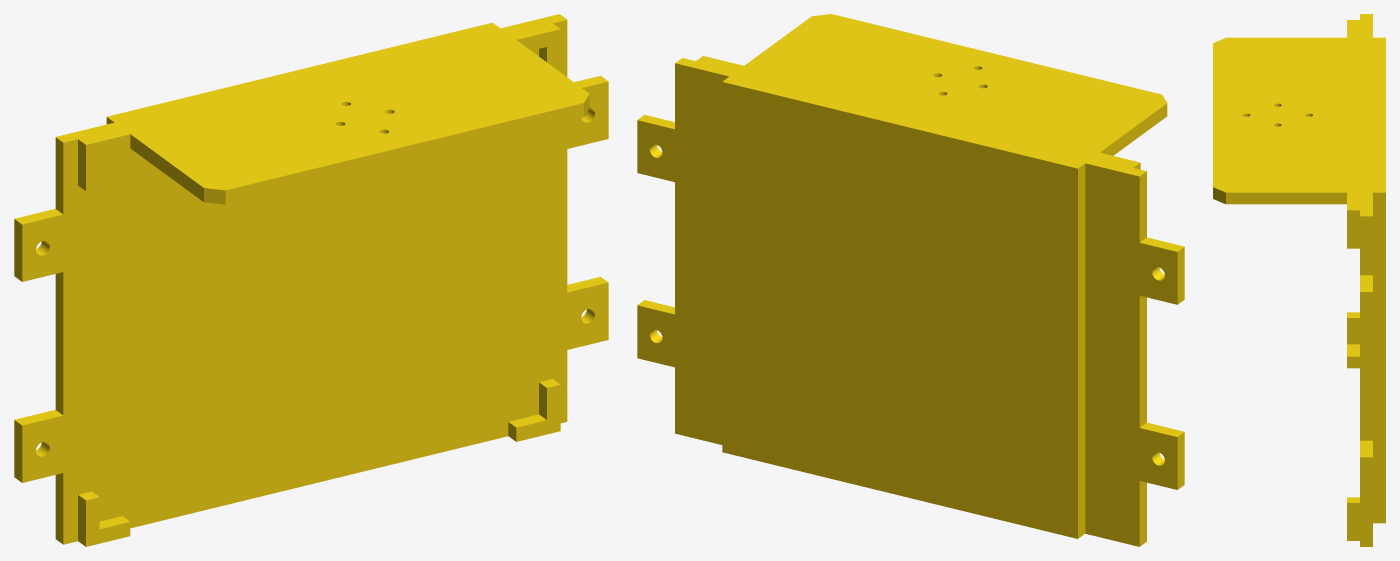
3 renders of one model, left to right at view 1: azimuth 30°, elevation 25°; view 2: azimuth 150°, elevation 25°; view 3: azimuth 270°, elevation 25°, orthographic. The views are drawn at different scales.
Visible parts, largest first — view 1: mesh11558, mesh11521, mesh11507, mesh11526, mesh11552, mesh11514, mesh11559, mesh11506, mesh11518; view 2: mesh11533, mesh11521, mesh11543, mesh11546, mesh11531, mesh11526, mesh11506; view 3: mesh11521, mesh11532, mesh11505, mesh11538, mesh11534, mesh11540, mesh11536, mesh11542, mesh11520, mesh11555, mesh11560, mesh11539.
Boxes of the visible parts, left/top/right/bottom form: mesh11558: left=22, top=20, right=608, bottom=544; mesh11521: left=56, top=14, right=589, bottom=190; mesh11507: left=225, top=103, right=583, bottom=204; mesh11526: left=55, top=272, right=63, bottom=414; mesh11552: left=516, top=385, right=560, bottom=441; mesh11514: left=86, top=134, right=130, bottom=191; mesh11559: left=86, top=497, right=130, bottom=546; mesh11506: left=130, top=134, right=203, bottom=201; mesh11518: left=517, top=29, right=560, bottom=71; mesh11533: left=722, top=82, right=1077, bottom=538; mesh11521: left=675, top=14, right=1166, bottom=176; mesh11543: left=1085, top=163, right=1177, bottom=546; mesh11546: left=637, top=63, right=729, bottom=444; mesh11531: left=1078, top=163, right=1085, bottom=538; mesh11526: left=1139, top=296, right=1146, bottom=427; mesh11506: left=1100, top=103, right=1167, bottom=155; mesh11521: left=1213, top=14, right=1385, bottom=216; mesh11532: left=1373, top=192, right=1385, bottom=523; mesh11505: left=1226, top=192, right=1346, bottom=204; mesh11538: left=1360, top=339, right=1372, bottom=440; mesh11534: left=1360, top=216, right=1372, bottom=275; mesh11540: left=1360, top=457, right=1372, bottom=504; mesh11536: left=1360, top=292, right=1372, bottom=338; mesh11542: left=1360, top=504, right=1372, bottom=546; mesh11520: left=1347, top=210, right=1359, bottom=248; mesh11555: left=1347, top=503, right=1359, bottom=540; mesh11560: left=1347, top=318, right=1359, bottom=344; mesh11539: left=1360, top=440, right=1372, bottom=457.
Bounding box in the file's own units: 0.2137 × 0.14 × 0.0664.
